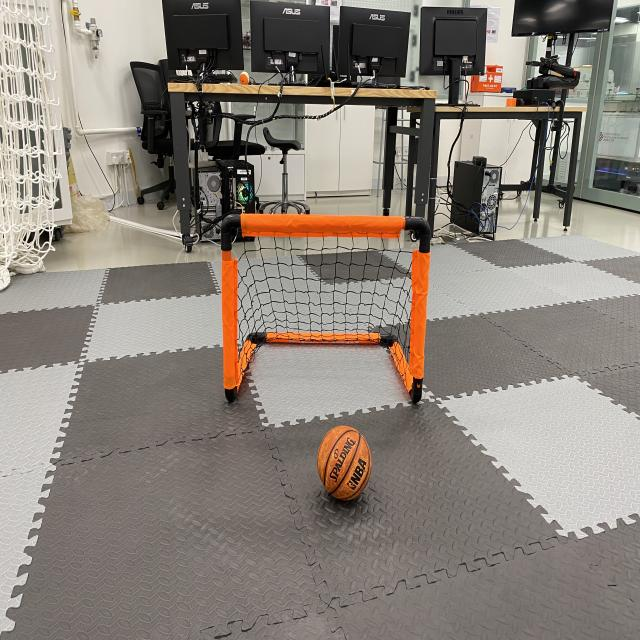ball: (315, 418, 375, 507)
gate: (215, 206, 435, 414)
